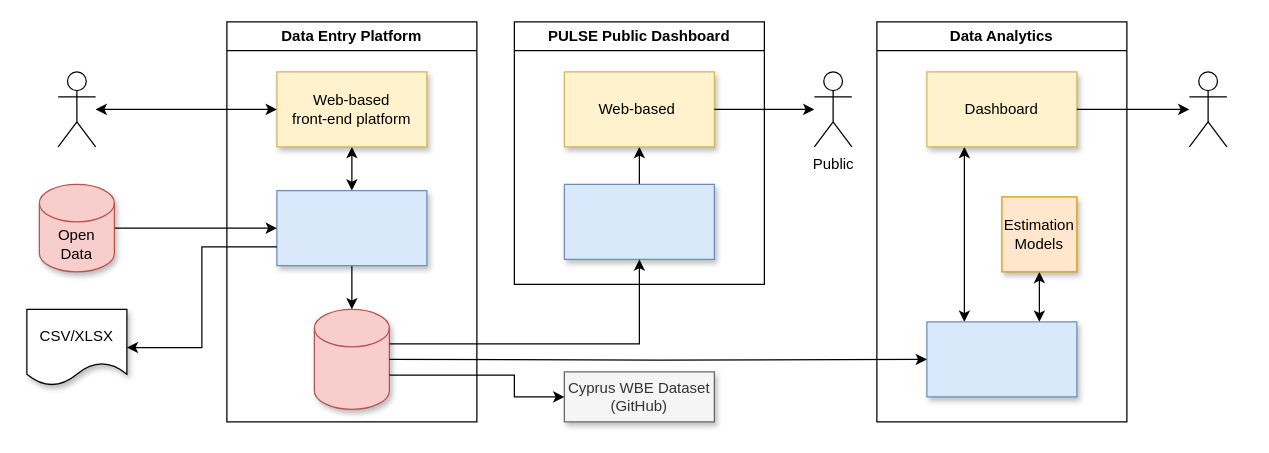
Image size: 1269x453. Some labels were removed from this diagram. The shapes that lost their labels are listed below. From the top down, each one's centre as x and y in pixels, then its label:
At (x=76, y=109): "Laboratory".
At (x=1207, y=109): "Researcher".
At (x=352, y=229): "Back-end (Python/Django)".
At (x=640, y=223): "Power BI Gateway Server".
At (x=352, y=360): "PULSE Database".
At (x=1002, y=361): "Grafana Backend".
